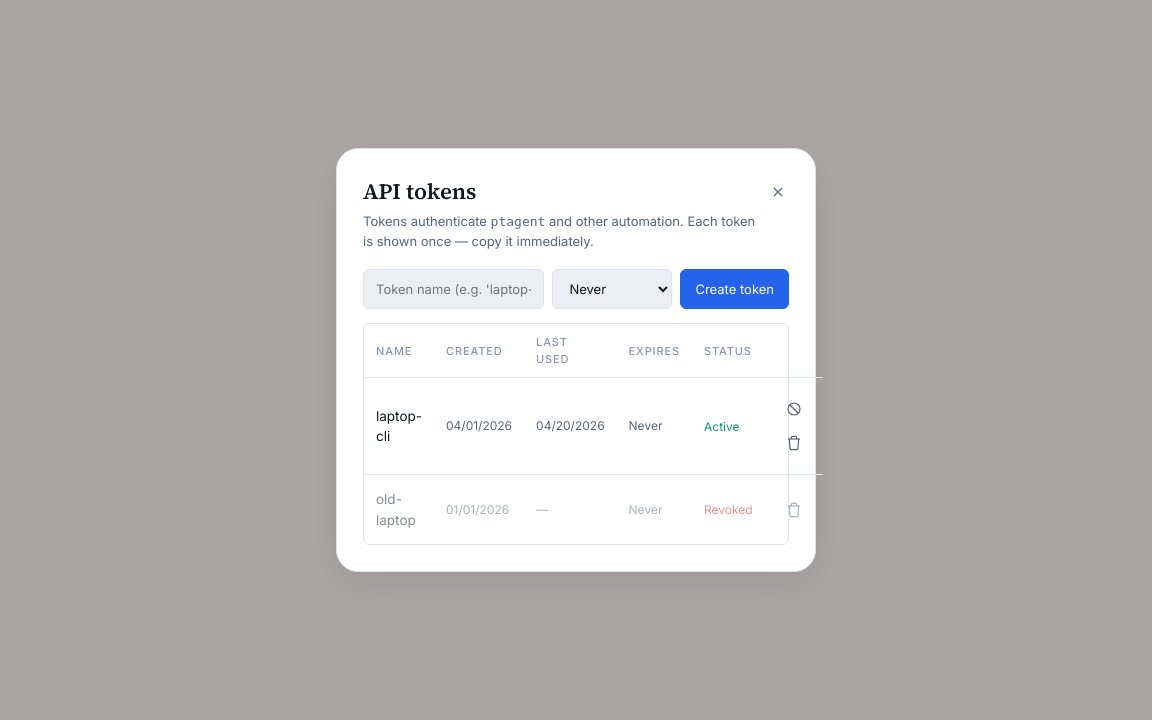
Test: TokensModal — create › "Done" dismisses the just-created panel
Type "ci-bot" into the field with placeholder "Token name (e.g. 'laptop-cli')" at (454, 289), box [363,269,544,309]
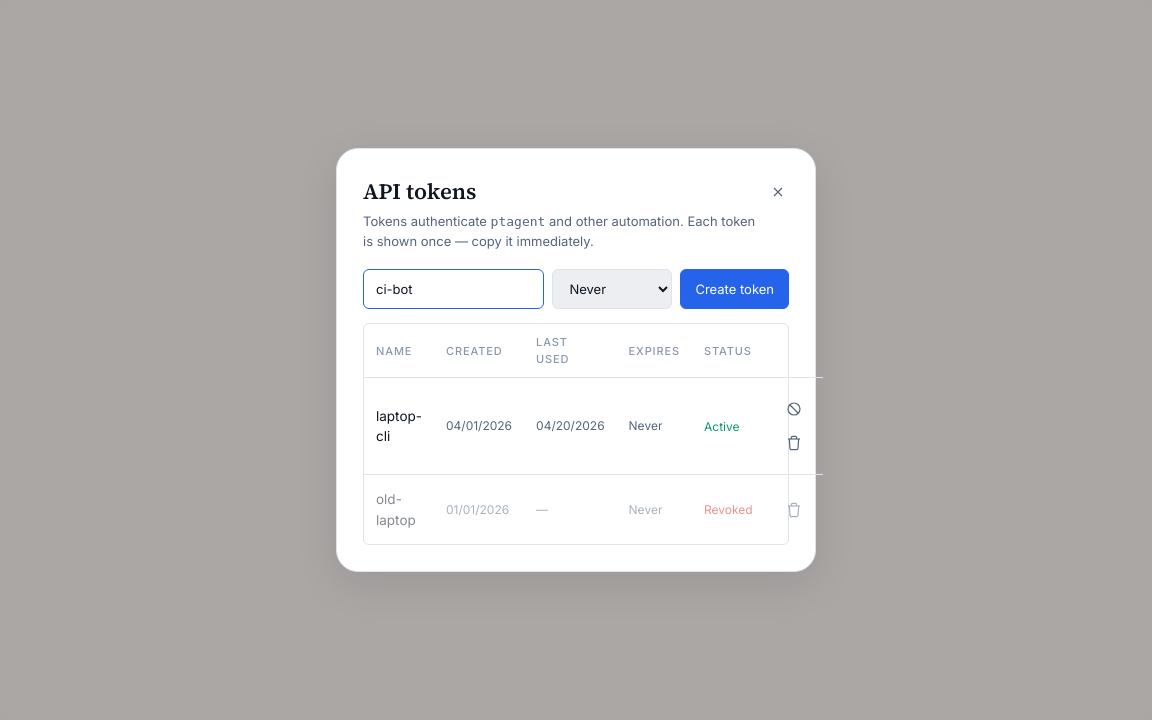
Click the button "Create token" at (735, 289), box [680,269,789,309]
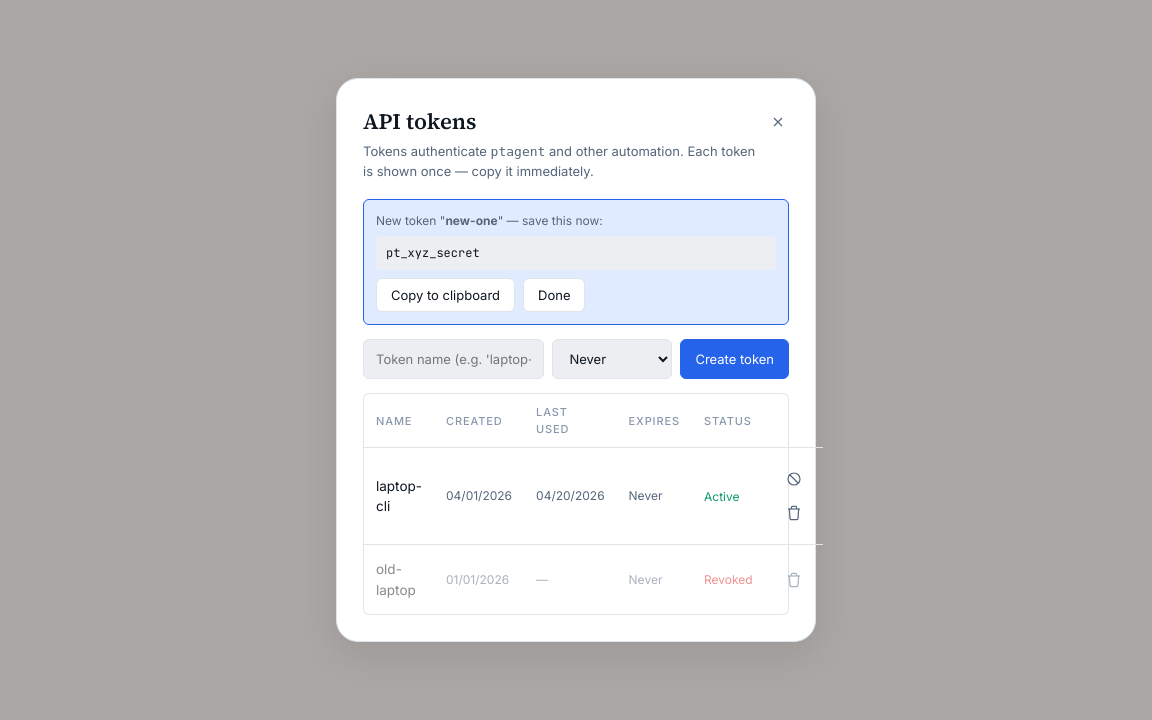
Expected: the text "pt_xyz_secret" is shown, [376,236,776,270]
Click the button "Done" at (554, 295), box [523,278,585,312]
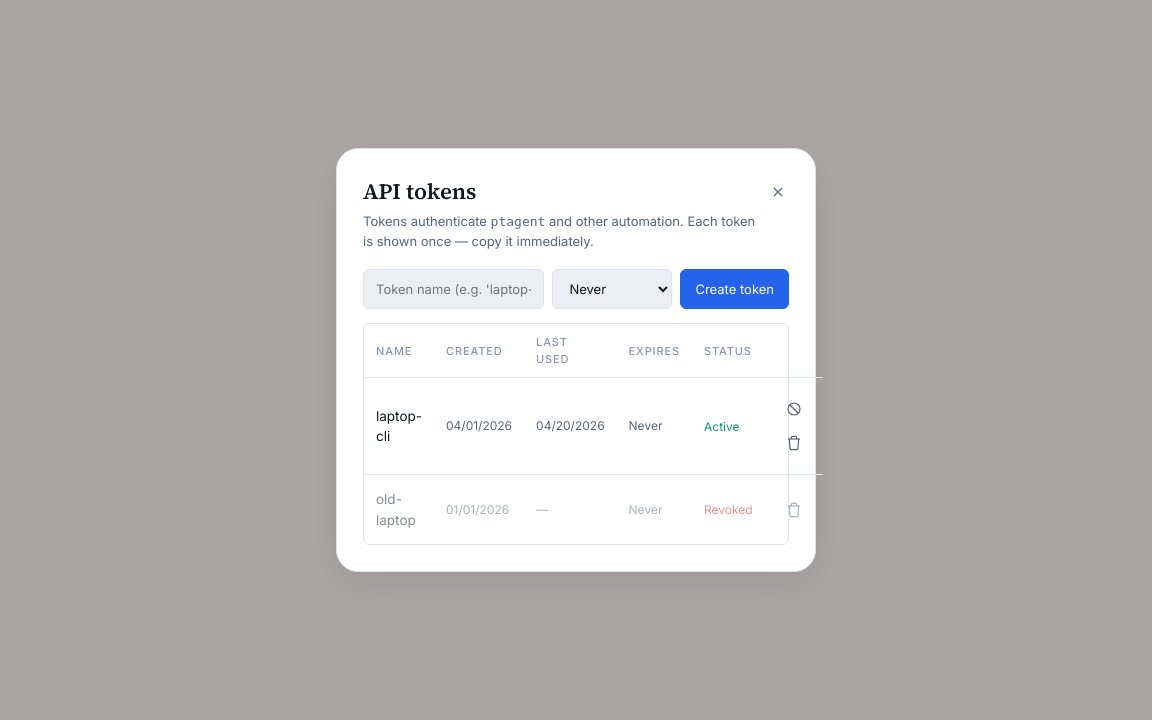
Expected: the text "pt_xyz_secret" is gone
